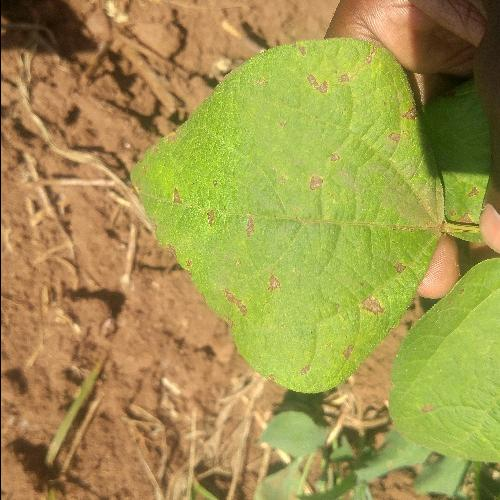hawar: (278, 13, 430, 210), (158, 166, 296, 317), (328, 266, 414, 374)
